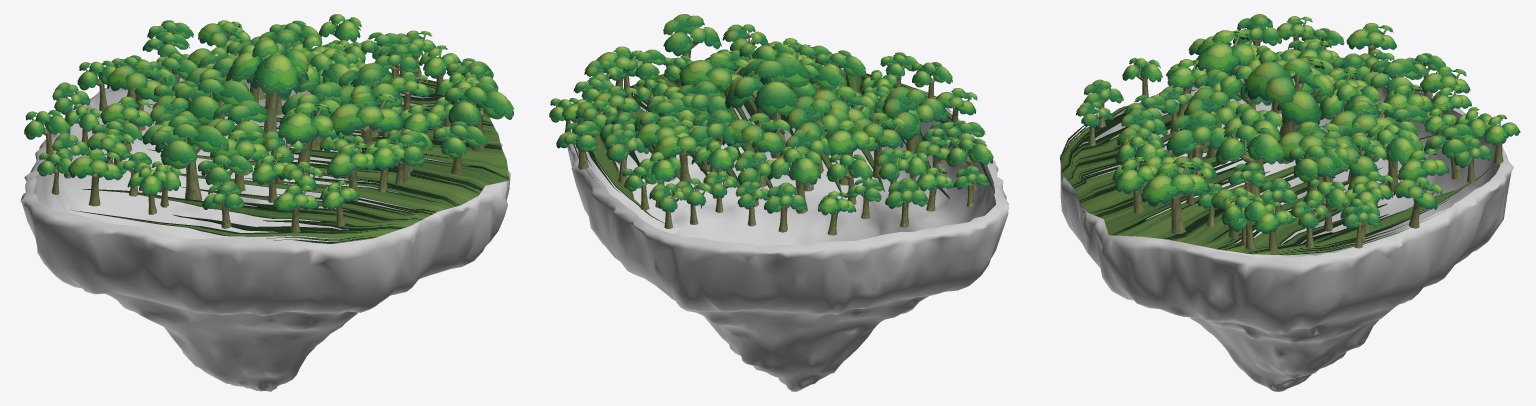
File: Island_Big_3.fbx
The picture shows the model from 3 angles, left to right: view 1: azimuth 30°, elevation 25°; view 2: azimuth 150°, elevation 25°; view 3: azimuth 270°, elevation 25°; orthographic projection. The views are drawn at different scales.
Visible parts, largest first — view 1: Island_Big_03, Tree_01.034, Tree_01.074, Tree_01.004, Tree_01.030, Tree_01.028, Tree_01.029, Tree_01.041, Tree_01.089, Tree_01.024, Tree_01.052, Tree_01.076 (+45 smaller); view 2: Island_Big_03, Tree_01.034, Tree_01.074, Tree_01.026, Tree_01.028, Tree_01.030, Tree_01.024, Tree_01.041, Tree_01.072, Tree_01.083, Tree_01.019, Tree_01.071 (+48 smaller); view 3: Island_Big_03, Tree_01.034, Tree_01.030, Tree_01.041, Tree_01.004, Tree_01.074, Tree_01.059, Tree_01.026, Tree_01.024, Tree_01.083, Tree_01.029, Tree_01.076 (+50 smaller).
Boxes of the visible parts, x1=… form: Island_Big_03: x1=20, y1=74, x2=510, y2=391; Tree_01.034: x1=226, y1=39, x2=308, y2=152; Tree_01.074: x1=151, y1=121, x2=229, y2=200; Tree_01.004: x1=329, y1=92, x2=404, y2=153; Tree_01.030: x1=445, y1=82, x2=513, y2=151; Tree_01.028: x1=175, y1=76, x2=255, y2=156; Tree_01.029: x1=278, y1=102, x2=343, y2=175; Tree_01.041: x1=333, y1=63, x2=401, y2=137; Tree_01.089: x1=207, y1=100, x2=268, y2=175; Tree_01.024: x1=107, y1=61, x2=172, y2=131; Tree_01.052: x1=68, y1=149, x2=122, y2=206; Tree_01.076: x1=433, y1=121, x2=487, y2=174; Island_Big_03: x1=567, y1=65, x2=1008, y2=391; Tree_01.034: x1=725, y1=56, x2=813, y2=158; Tree_01.074: x1=882, y1=86, x2=947, y2=153; Tree_01.026: x1=722, y1=113, x2=790, y2=187; Tree_01.028: x1=786, y1=96, x2=851, y2=173; Tree_01.030: x1=663, y1=14, x2=721, y2=70; Tree_01.024: x1=767, y1=146, x2=821, y2=213; Tree_01.041: x1=679, y1=52, x2=751, y2=91; Tree_01.072: x1=848, y1=112, x2=906, y2=178; Tree_01.083: x1=689, y1=110, x2=748, y2=171; Tree_01.019: x1=825, y1=120, x2=879, y2=185; Tree_01.071: x1=653, y1=125, x2=707, y2=182; Island_Big_03: x1=1060, y1=63, x2=1513, y2=391; Tree_01.034: x1=1245, y1=58, x2=1334, y2=164; Tree_01.030: x1=1141, y1=161, x2=1210, y2=234; Tree_01.041: x1=1215, y1=125, x2=1284, y2=196; Tree_01.004: x1=1166, y1=110, x2=1231, y2=176; Tree_01.074: x1=1196, y1=30, x2=1259, y2=101; Tree_01.059: x1=1364, y1=127, x2=1415, y2=192; Tree_01.026: x1=1320, y1=79, x2=1380, y2=151; Tree_01.024: x1=1361, y1=58, x2=1419, y2=117; Tree_01.083: x1=1326, y1=100, x2=1394, y2=136; Tree_01.029: x1=1186, y1=87, x2=1241, y2=158; Tree_01.076: x1=1112, y1=157, x2=1157, y2=213.
Size of the model in its own units: 4981 by 3539 by 4514.
